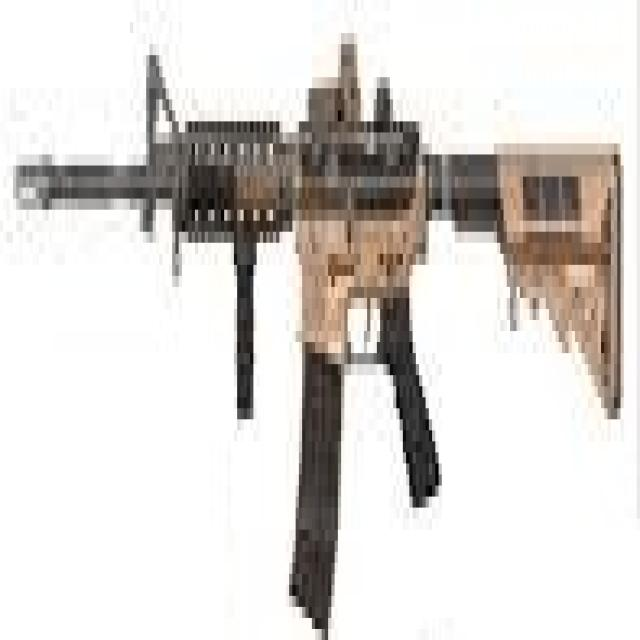rifle: (9, 27, 631, 640)
